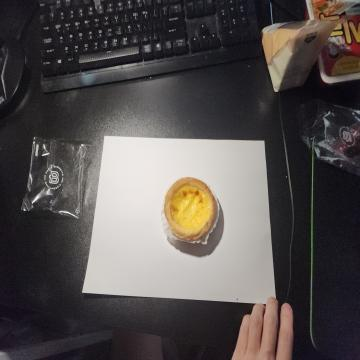EggTart: (164, 175, 216, 240)
